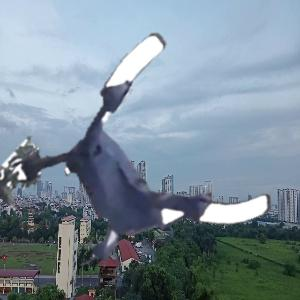drone: (32, 62, 264, 294)
